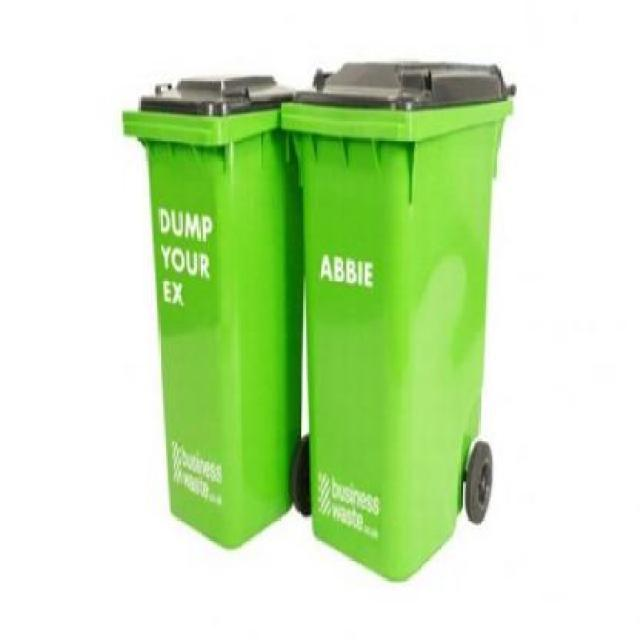garbage container: (280, 54, 531, 597), (113, 55, 312, 564)
